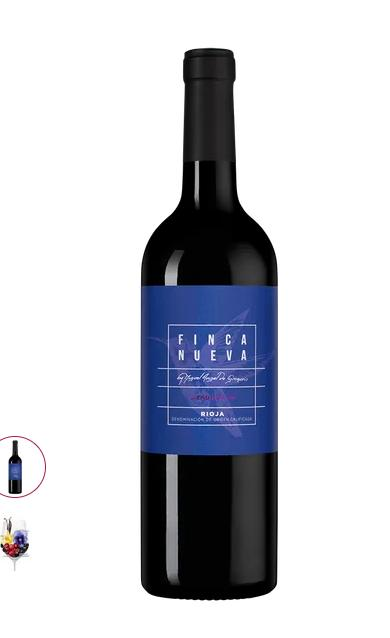wine bottle: (141, 48, 278, 601)
wine label: (139, 282, 278, 456)
